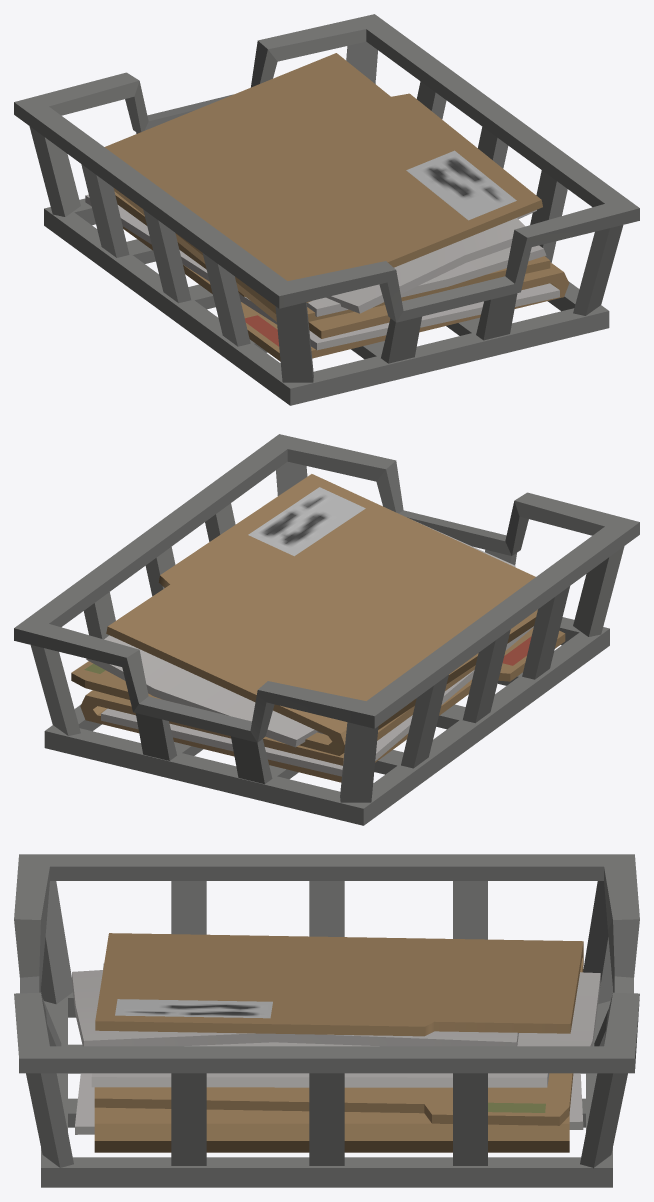
File: SM_Prop_FolderTray_01.fbx
The picture shows the model from 3 angles, top to bottom: view 1: azimuth 30°, elevation 25°; view 2: azimuth 150°, elevation 25°; view 3: azimuth 270°, elevation 25°; orthographic projection. The views are drawn at different scales.
Visible parts, largest first — view 1: SM_Prop_FolderTray_01; view 2: SM_Prop_FolderTray_01; view 3: SM_Prop_FolderTray_01.
Boxes of the visible parts, left/top/right/bottom form: SM_Prop_FolderTray_01: left=14, top=14, right=639, bottom=405; SM_Prop_FolderTray_01: left=14, top=434, right=639, bottom=825; SM_Prop_FolderTray_01: left=14, top=854, right=639, bottom=1187.
Size of the model in its own units: 38.92 by 12.57 by 50.39.
